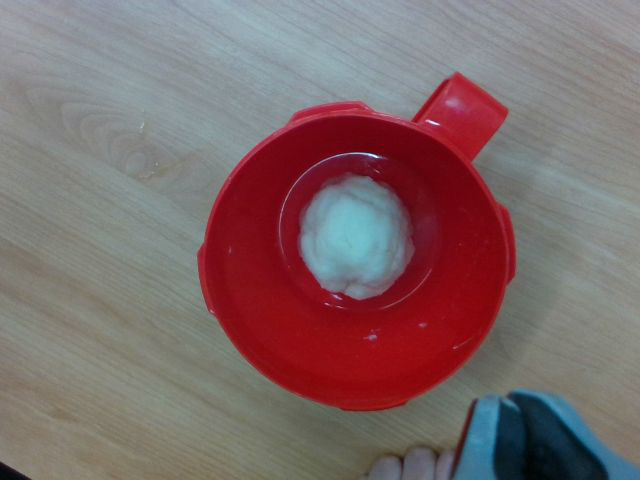mashed_potato: (299, 176, 414, 300)
